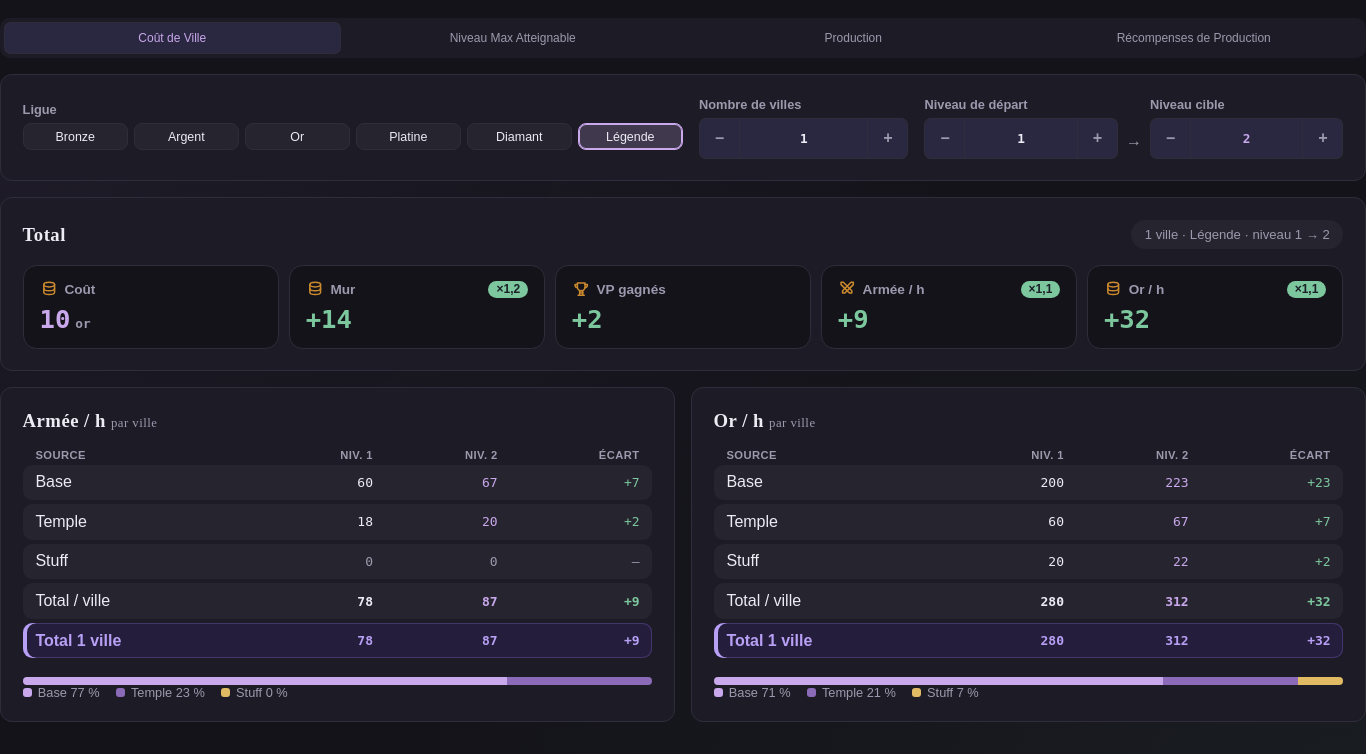
CityCalculators › reads production bonuses from persisted player settings
The width and height of the screenshot is (1366, 754).
Step 1. Click the tab "Production" → coordinates (853, 38), box x1=685 y1=22 x2=1022 y2=54
(page scrolled)
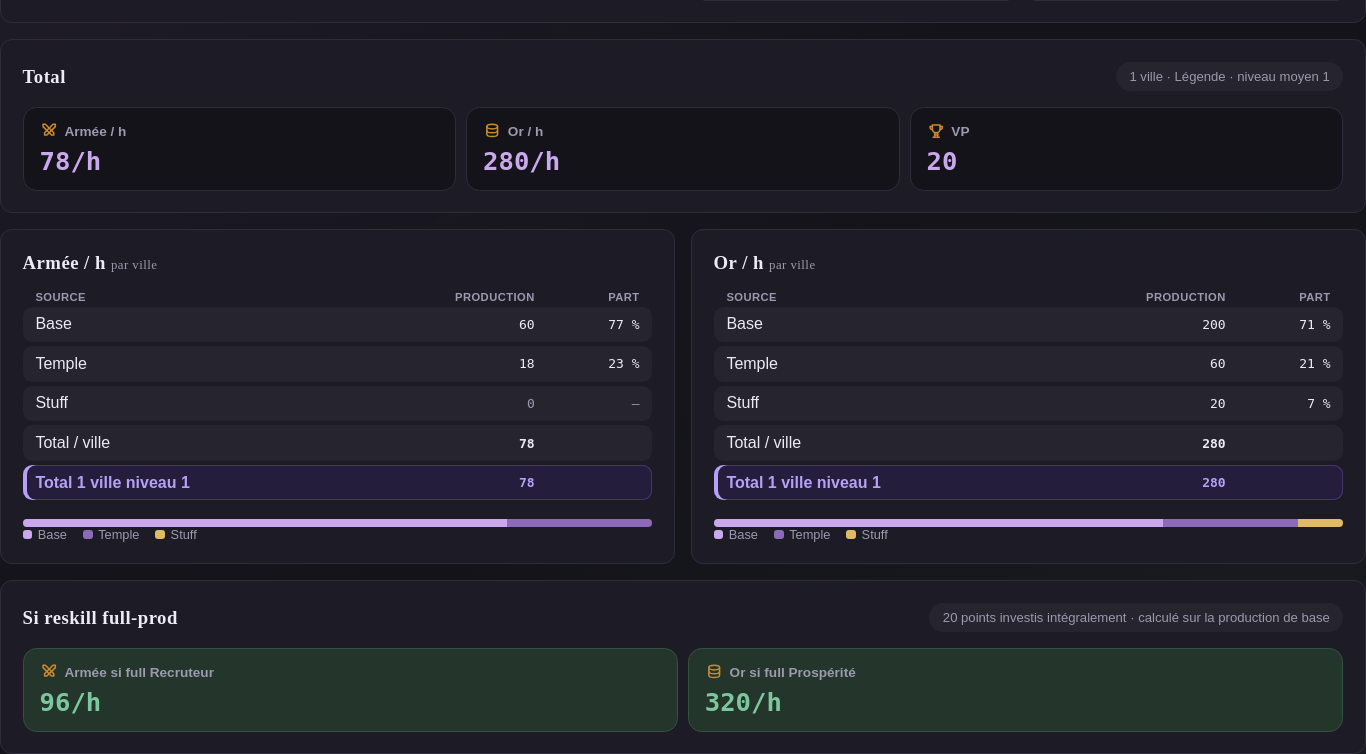
Expected: the text "280/h" is shown, x1=483 y1=146 x2=560 y2=176
Expected: the text with test id "full-production-gold" reads "320/h", x1=705 y1=687 x2=782 y2=717
